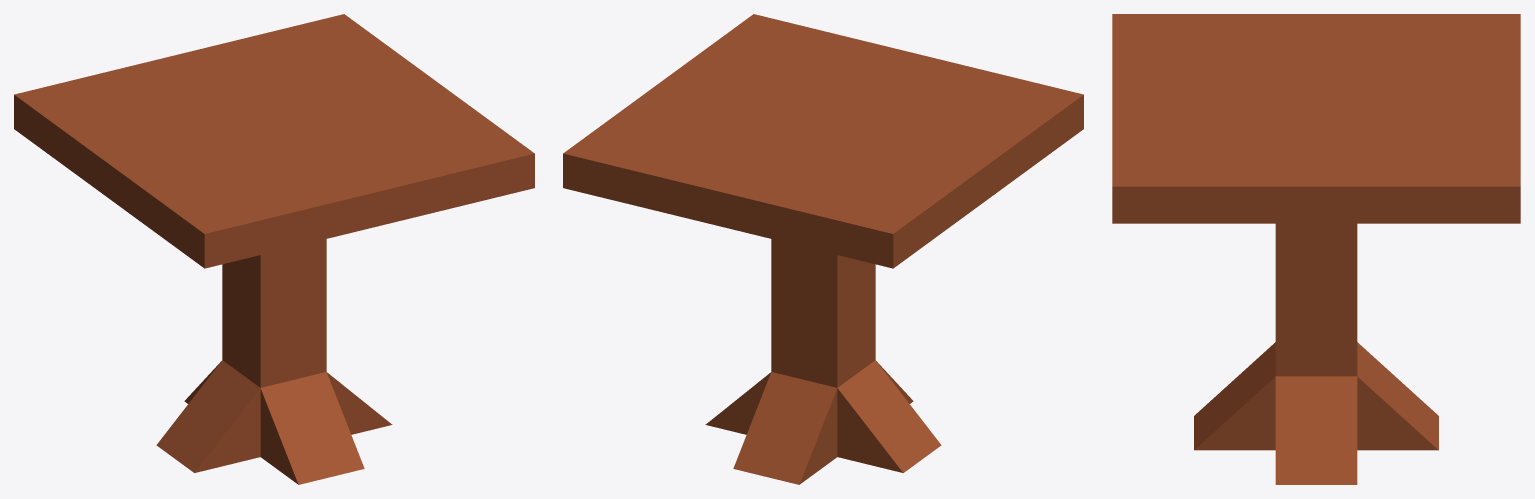
Rendered from Prop_Furniture_Fantasy_Dungeon_Table_Wooden_Small_04.FBX.
3 views of the same model, side by side, from view 1: azimuth 30°, elevation 25°; view 2: azimuth 150°, elevation 25°; view 3: azimuth 270°, elevation 25° (orthographic). The views are drawn at different scales.
Visible parts, largest first — view 1: Prop_Furniture_Fantasy_Dungeon_Table_Wooden_Small_04; view 2: Prop_Furniture_Fantasy_Dungeon_Table_Wooden_Small_04; view 3: Prop_Furniture_Fantasy_Dungeon_Table_Wooden_Small_04.
Boxes of the visible parts, x1=… form: Prop_Furniture_Fantasy_Dungeon_Table_Wooden_Small_04: x1=14, y1=14, x2=534, y2=484; Prop_Furniture_Fantasy_Dungeon_Table_Wooden_Small_04: x1=563, y1=14, x2=1083, y2=484; Prop_Furniture_Fantasy_Dungeon_Table_Wooden_Small_04: x1=1112, y1=14, x2=1520, y2=484.
Size of the model in its own units: 403 by 363 by 403.
